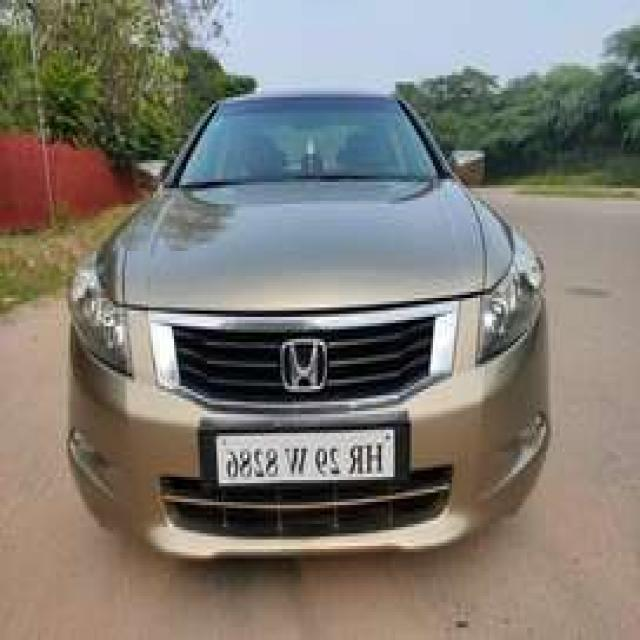license_plate: (198, 416, 412, 494)
